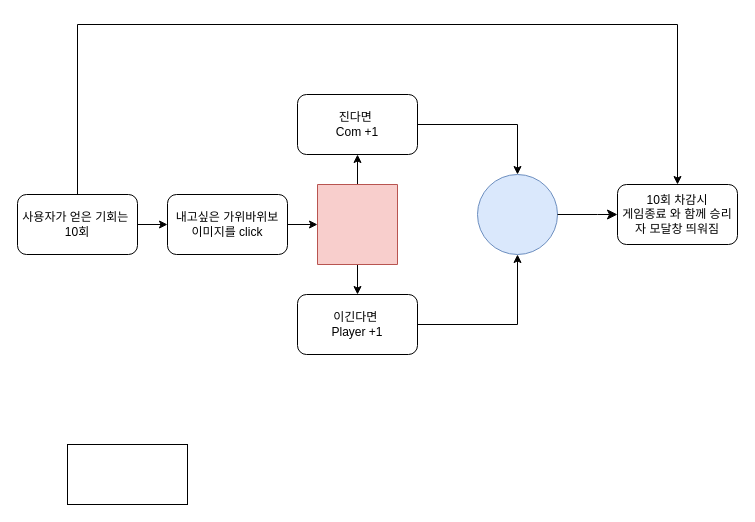
Some shapes in this 755 by 522 pixel diagram are drawn without their labels. Here are the shapes that lost their labels. From the top down, the centre of each, then its label:
At pixel 357 224: "com은 random 가위바위보".
At pixel 517 214: "남은기회-1".
